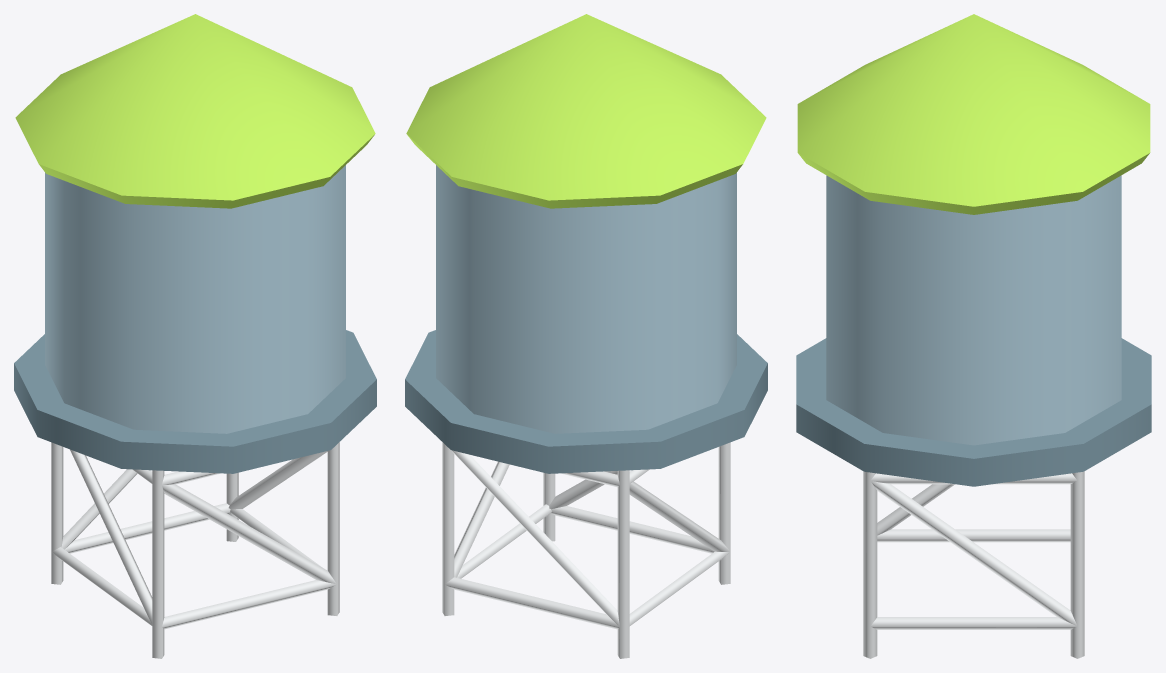
Rendered from Rooftop_Barrel_01.glb.
3 views of the same model, side by side, from view 1: azimuth 30°, elevation 25°; view 2: azimuth 150°, elevation 25°; view 3: azimuth 270°, elevation 25° (orthographic). The views are drawn at different scales.
Visible parts, largest first — view 1: Rooftop_Barrel_01; view 2: Rooftop_Barrel_01; view 3: Rooftop_Barrel_01.
Part boxes in pixels (box(x1,y1,x2,y2)): Rooftop_Barrel_01: box(14, 14, 376, 658); Rooftop_Barrel_01: box(405, 14, 767, 658); Rooftop_Barrel_01: box(796, 14, 1151, 658).
Bounding box in the file's own units: 2.64 × 4.66 × 2.51.
1 material, 1 textured.
